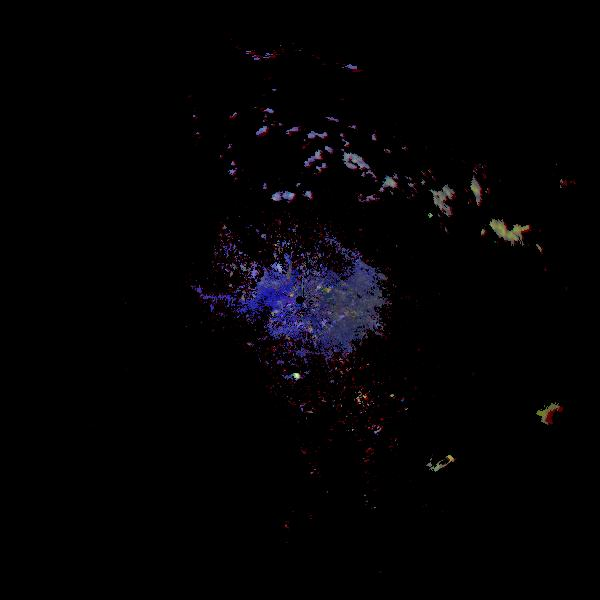roost: (538, 400, 574, 436), (427, 453, 454, 480), (294, 372, 303, 381)
